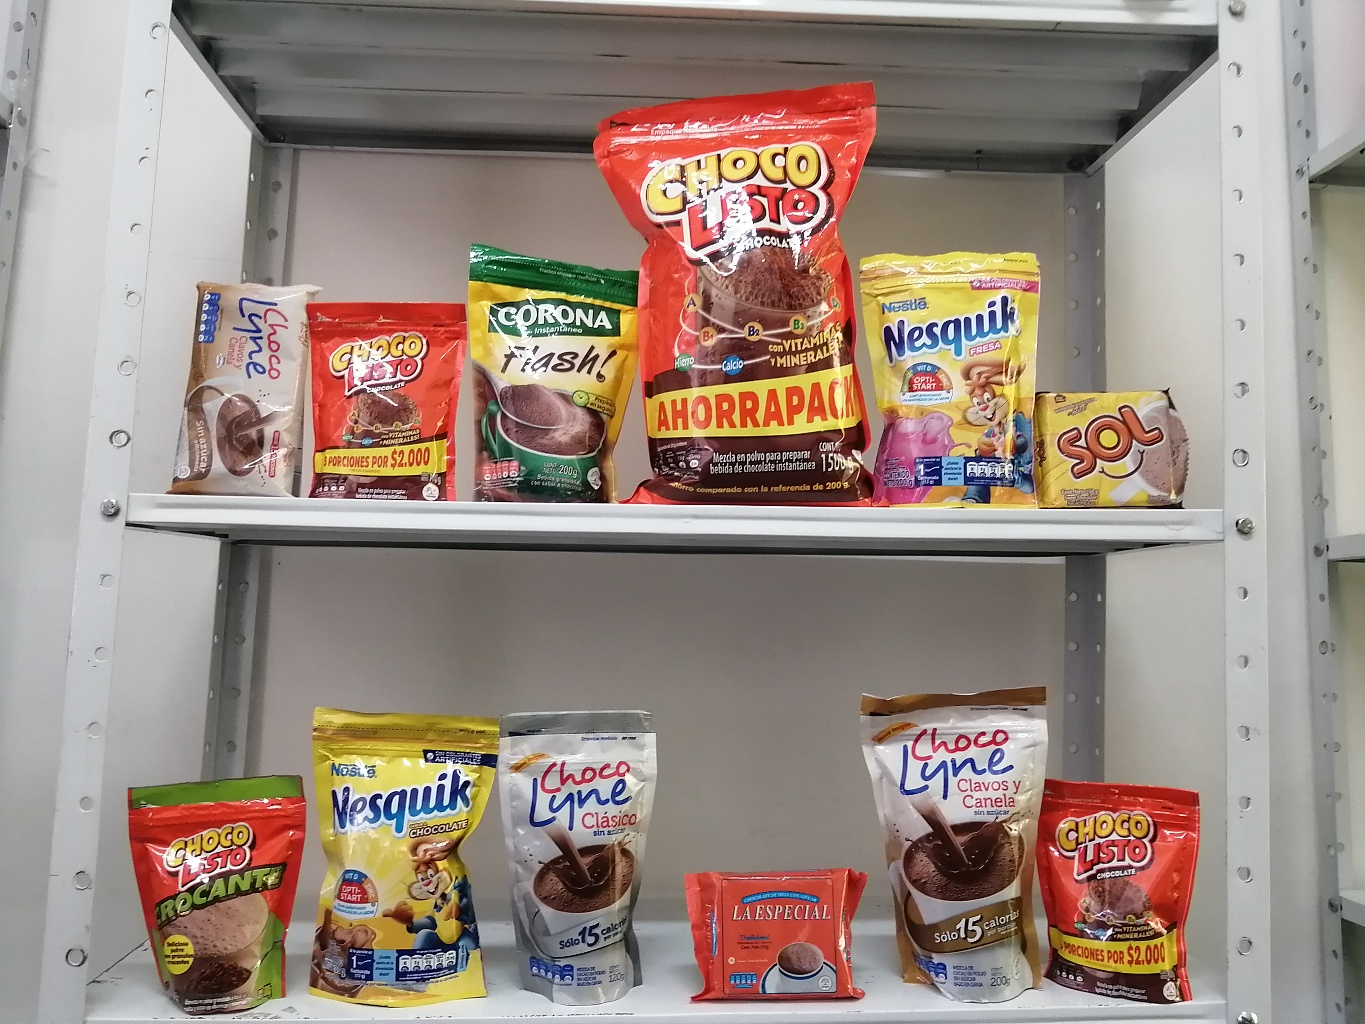COL0170102DYP10000: (111, 749, 305, 1022)
COL0170103DYP1,500: (583, 70, 894, 520)
COL0170303DYP20000: (288, 694, 500, 1015)
COL0170305DYP20000: (836, 232, 1063, 515)
